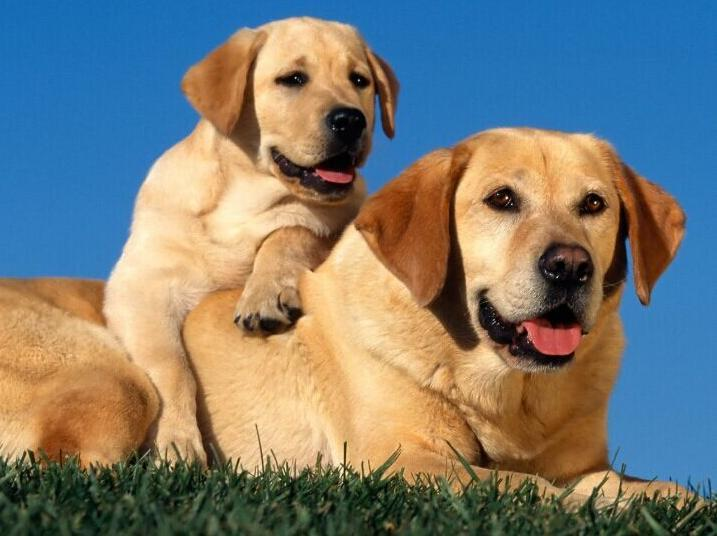dog: (404, 122, 690, 500), (119, 13, 398, 199)
